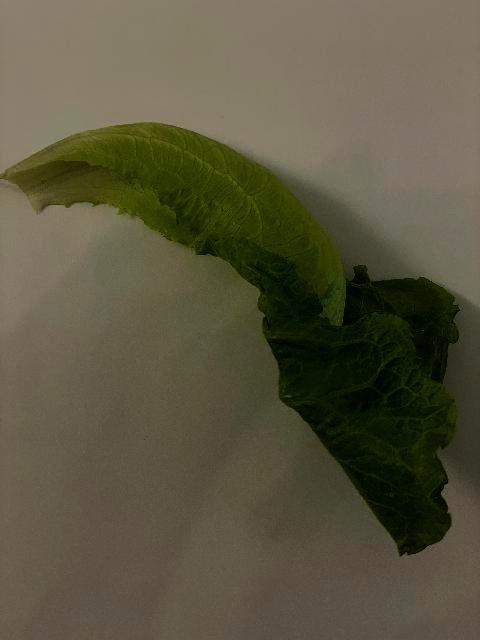lettuce: (0, 119, 462, 561)
